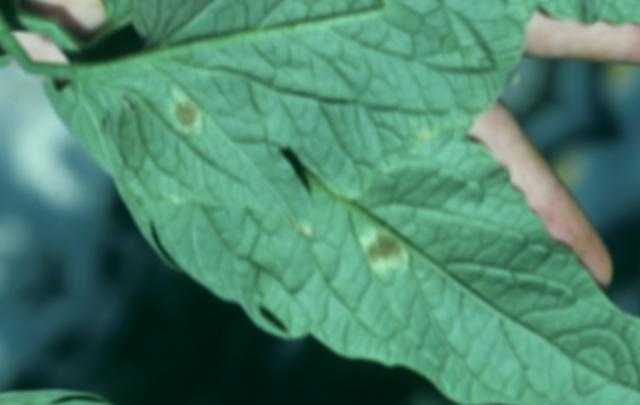Tomato mold leaf: (18, 0, 640, 405), (12, 0, 538, 338)
